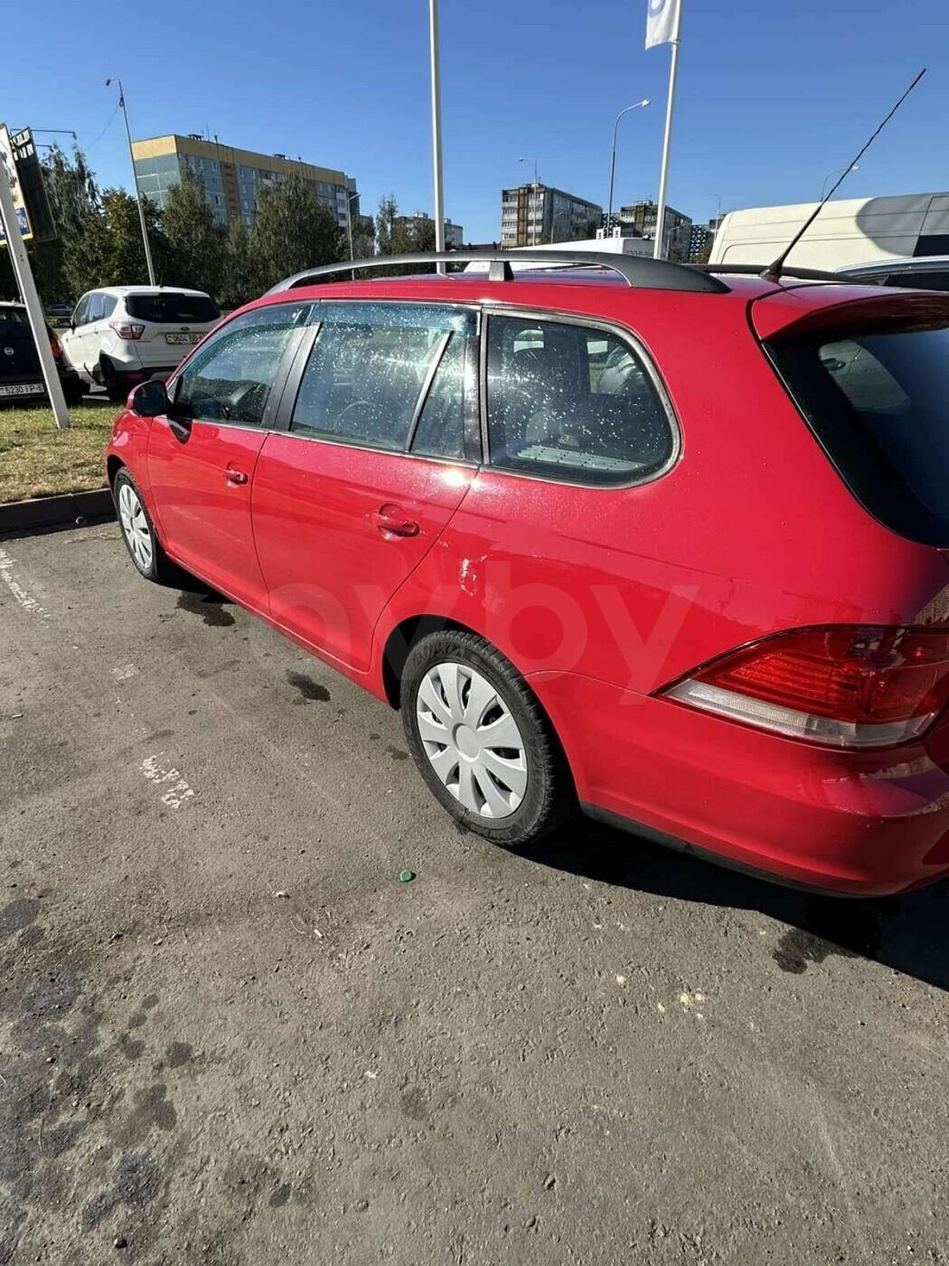Golf_2003-2009: (108, 254, 949, 939)
